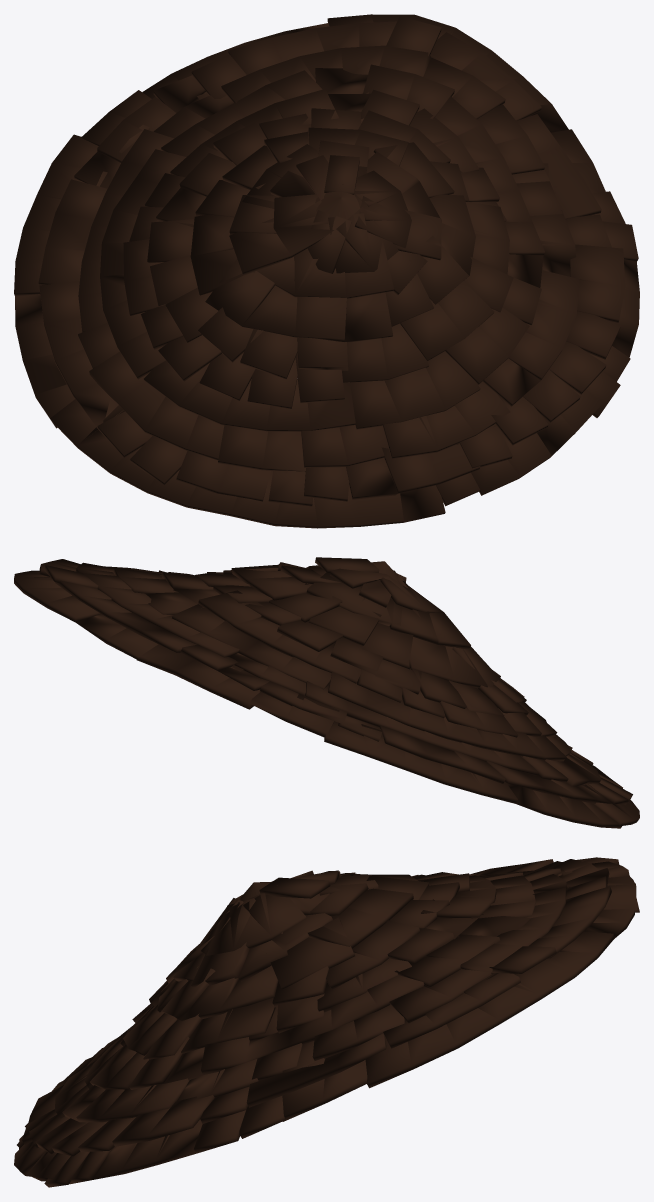
The model's file is roof.glb.
The picture shows the model from 3 angles, top to bottom: view 1: azimuth 30°, elevation 25°; view 2: azimuth 150°, elevation 25°; view 3: azimuth 270°, elevation 25°; orthographic projection. The views are drawn at different scales.
Visible parts, largest first — view 1: mesh_id7; view 2: mesh_id7; view 3: mesh_id7.
Part boxes in pixels (x1,y1,x2,y2): mesh_id7: (14, 14, 639, 528); mesh_id7: (14, 557, 639, 828); mesh_id7: (14, 857, 639, 1187).
Size of the model in its own units: 0.5281 by 0.2576 by 0.4692.
Materials: 1 (1 with a texture image).
